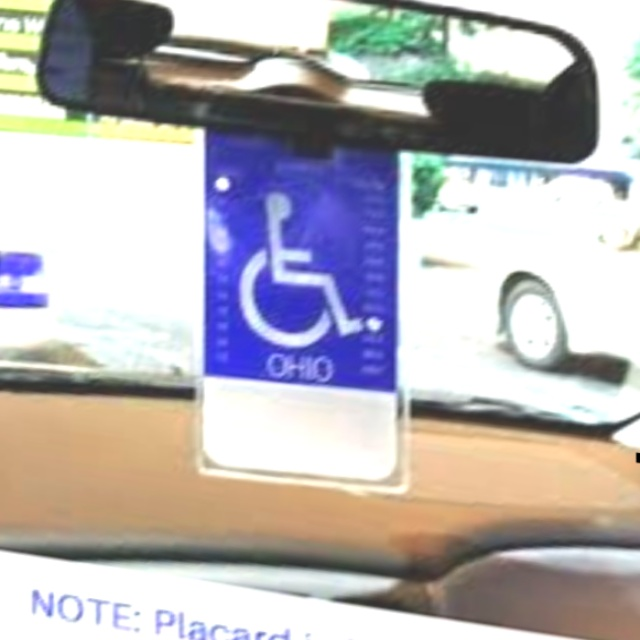ISA: (217, 185, 366, 357)
